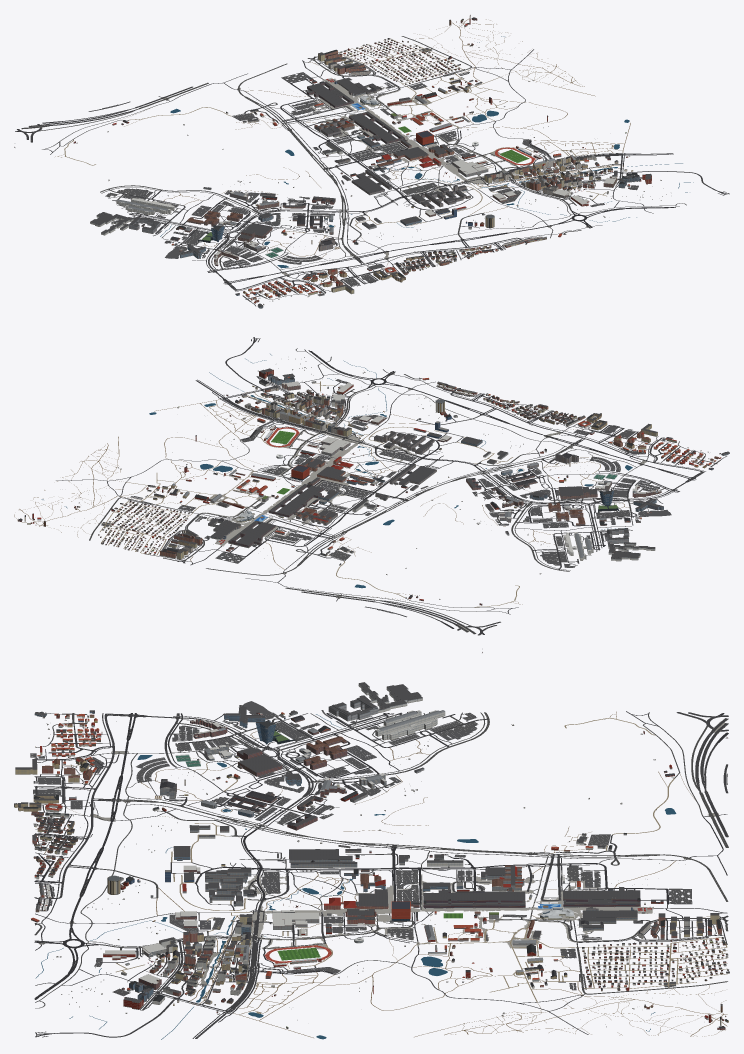
File: campus_objekt.glb
3 views of the same model, one above another, from view 1: azimuth 30°, elevation 25°; view 2: azimuth 150°, elevation 25°; view 3: azimuth 270°, elevation 25° (orthographic). The views are drawn at different scales.
Parts seen in each view (by area): view 1: Byggnader_OSM/Byggnader_OSM_6_5_Fasad_atlas, Byggnader_OSM/Byggnader_OSM_5_5_Fasad_atlas, Byggnader_OSM/Byggnader_OSM_4_2_Tak_papp, Byggnader_OSM/Byggnader_OSM_5_0_Fasad_atlas, Byggnader_OSM/Byggnader_OSM_4_5_Fasad_atlas, Byggnader_OSM/Byggnader_OSM_4_2_Fasad_atlas, Byggnader_OSM/Byggnader_OSM_6_0_Fasad_atlas, Byggnader_OSM/Byggnader_OSM_4_1_Tak_papp, Byggnader_OSM/Byggnader_OSM_0_3_Fasad_atlas; view 2: Byggnader_OSM/Byggnader_OSM_6_5_Fasad_atlas, Byggnader_OSM/Byggnader_OSM_4_2_Tak_papp, Byggnader_OSM/Byggnader_OSM_5_0_Fasad_atlas, Byggnader_OSM/Byggnader_OSM_5_5_Fasad_atlas, Byggnader_OSM/Byggnader_OSM_4_2_Fasad_atlas, Byggnader_OSM/Byggnader_OSM_4_5_Fasad_atlas, Byggnader_OSM/Byggnader_OSM_4_1_Tak_papp; view 3: Byggnader_OSM/Byggnader_OSM_6_5_Fasad_atlas, Byggnader_OSM/Byggnader_OSM_4_2_Tak_papp, Byggnader_OSM/Byggnader_OSM_4_2_Fasad_atlas, Byggnader_OSM/Byggnader_OSM_4_5_Fasad_atlas, Byggnader_OSM/Byggnader_OSM_0_3_Fasad_atlas, Byggnader_OSM/Byggnader_OSM_4_1_Tak_papp, Byggnader_OSM/Byggnader_OSM_5_5_Fasad_atlas, Byggnader_OSM/Byggnader_OSM_5_0_Fasad_atlas, Byggnader_OSM/Byggnader_OSM_4_5_Tak_papp, Vagar/Vagar_6_5_Vag_asfalt, Byggnader_OSM/Byggnader_OSM_-1_3_Tak_papp, Byggnader_OSM/Byggnader_OSM_2_7_Fasad_atlas (+20 smaller).
Boxes of the visible parts, bbox=[...] form: Byggnader_OSM/Byggnader_OSM_6_5_Fasad_atlas: bbox=[533, 156, 617, 189]; Byggnader_OSM/Byggnader_OSM_5_5_Fasad_atlas: bbox=[484, 167, 558, 202]; Byggnader_OSM/Byggnader_OSM_4_2_Tak_papp: bbox=[317, 111, 404, 141]; Byggnader_OSM/Byggnader_OSM_5_0_Fasad_atlas: bbox=[318, 48, 392, 80]; Byggnader_OSM/Byggnader_OSM_4_5_Fasad_atlas: bbox=[420, 186, 470, 219]; Byggnader_OSM/Byggnader_OSM_4_2_Fasad_atlas: bbox=[316, 113, 404, 143]; Byggnader_OSM/Byggnader_OSM_6_0_Fasad_atlas: bbox=[365, 40, 440, 70]; Byggnader_OSM/Byggnader_OSM_4_1_Tak_papp: bbox=[307, 81, 353, 105]; Byggnader_OSM/Byggnader_OSM_0_3_Fasad_atlas: bbox=[116, 198, 174, 225]; Byggnader_OSM/Byggnader_OSM_6_5_Fasad_atlas: bbox=[247, 388, 329, 424]; Byggnader_OSM/Byggnader_OSM_4_2_Tak_papp: bbox=[269, 484, 336, 520]; Byggnader_OSM/Byggnader_OSM_5_0_Fasad_atlas: bbox=[134, 526, 219, 559]; Byggnader_OSM/Byggnader_OSM_5_5_Fasad_atlas: bbox=[302, 400, 385, 436]; Byggnader_OSM/Byggnader_OSM_4_2_Fasad_atlas: bbox=[268, 485, 337, 524]; Byggnader_OSM/Byggnader_OSM_4_5_Fasad_atlas: bbox=[374, 422, 448, 454]; Byggnader_OSM/Byggnader_OSM_4_1_Tak_papp: bbox=[229, 520, 275, 545]; Byggnader_OSM/Byggnader_OSM_6_5_Fasad_atlas: bbox=[162, 944, 249, 993]; Byggnader_OSM/Byggnader_OSM_4_2_Tak_papp: bbox=[423, 865, 525, 905]; Byggnader_OSM/Byggnader_OSM_4_2_Fasad_atlas: bbox=[423, 865, 532, 908]; Byggnader_OSM/Byggnader_OSM_4_5_Fasad_atlas: bbox=[165, 869, 256, 906]; Byggnader_OSM/Byggnader_OSM_0_3_Fasad_atlas: bbox=[348, 708, 445, 740]; Byggnader_OSM/Byggnader_OSM_4_1_Tak_papp: bbox=[563, 887, 640, 907]; Byggnader_OSM/Byggnader_OSM_5_5_Fasad_atlas: bbox=[159, 911, 252, 953]; Byggnader_OSM/Byggnader_OSM_5_0_Fasad_atlas: bbox=[633, 912, 725, 953]; Byggnader_OSM/Byggnader_OSM_4_5_Tak_papp: bbox=[184, 869, 253, 901]; Vagar/Vagar_6_5_Vag_asfalt: bbox=[92, 947, 279, 987]; Byggnader_OSM/Byggnader_OSM_-1_3_Tak_papp: bbox=[351, 682, 422, 710]; Byggnader_OSM/Byggnader_OSM_2_7_Fasad_atlas: bbox=[14, 794, 69, 833].
Size of what is drawn, in the model's own units: 2229 by 124 by 1904.
Materials: 165 (33 with a texture image).
